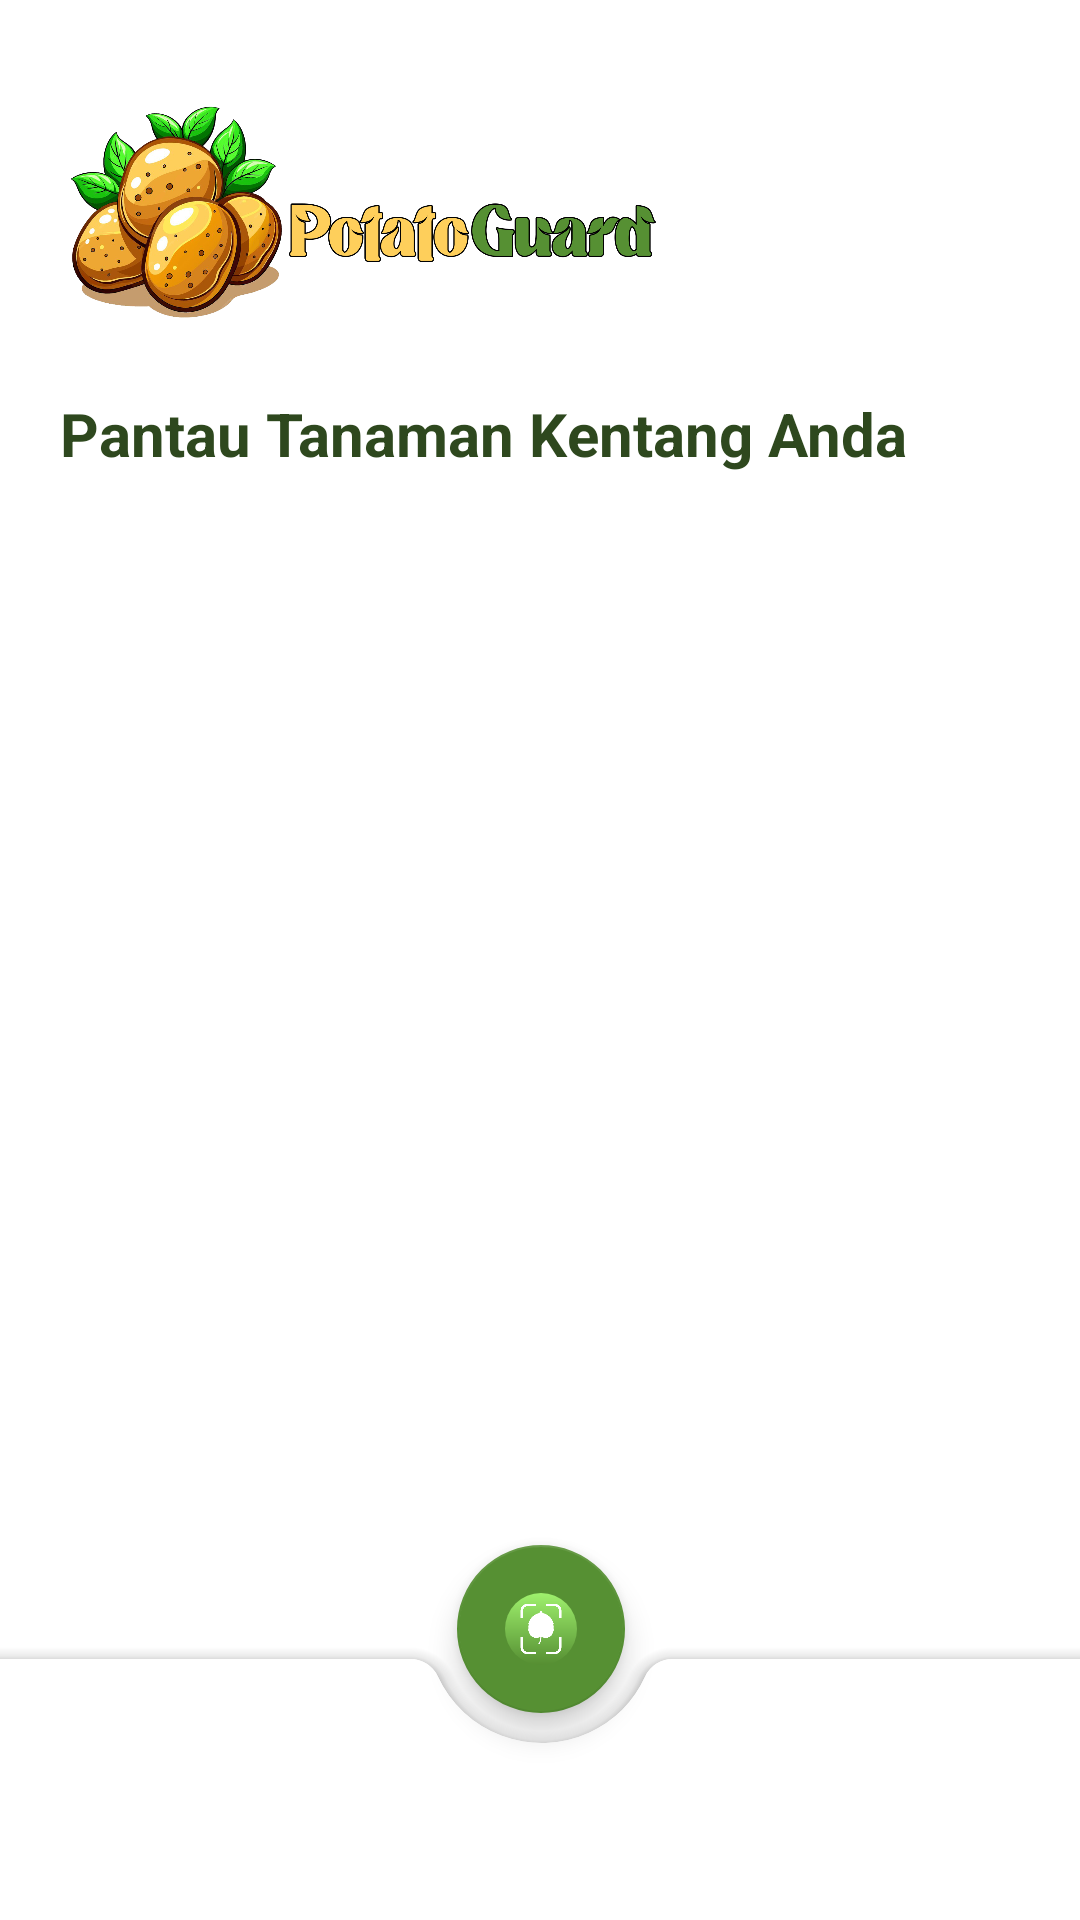

Named icons in this screenshot (1080px x 1920px) and their centers, (x=x, y=y):
fab: (x=541, y=1659)
